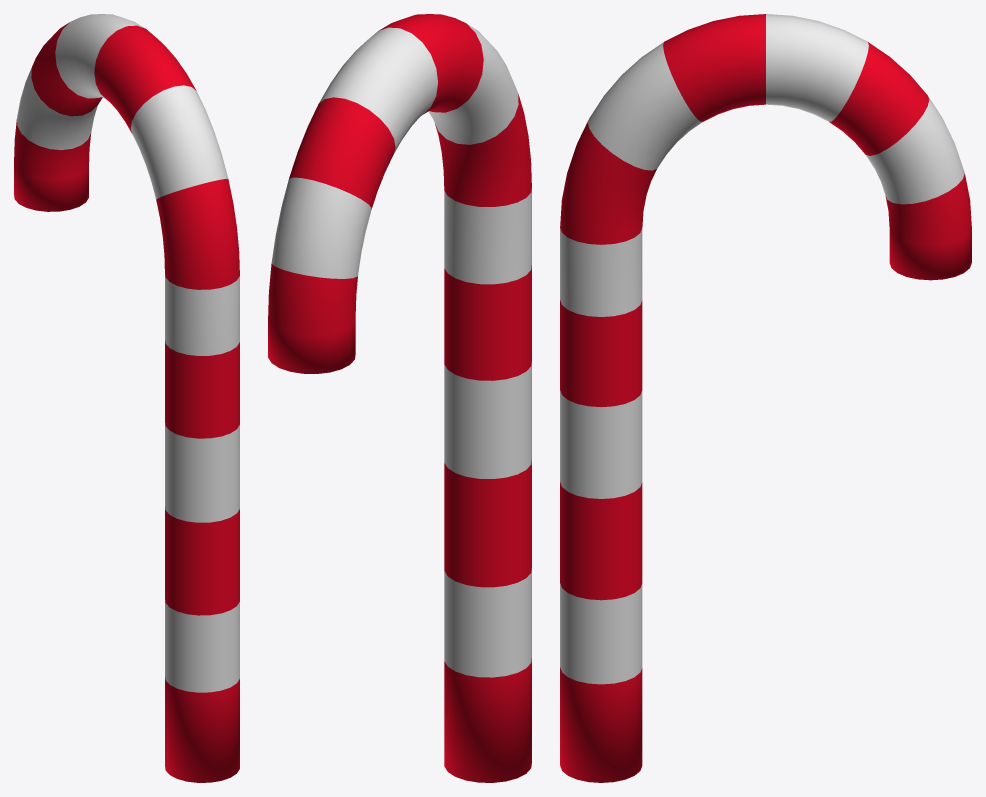
Rendered from NYcandy.fbx.
3 renders of one model, left to right at view 1: azimuth 30°, elevation 25°; view 2: azimuth 150°, elevation 25°; view 3: azimuth 270°, elevation 25°, orthographic. The views are drawn at different scales.
Visible parts, largest first — view 1: Torus; view 2: Torus; view 3: Torus.
Part boxes in pixels (x1,y1,x2,y2): Torus: (14, 14, 239, 782); Torus: (268, 14, 531, 782); Torus: (560, 14, 971, 782).
Size of the model in its own units: 50 by 501 by 250.
